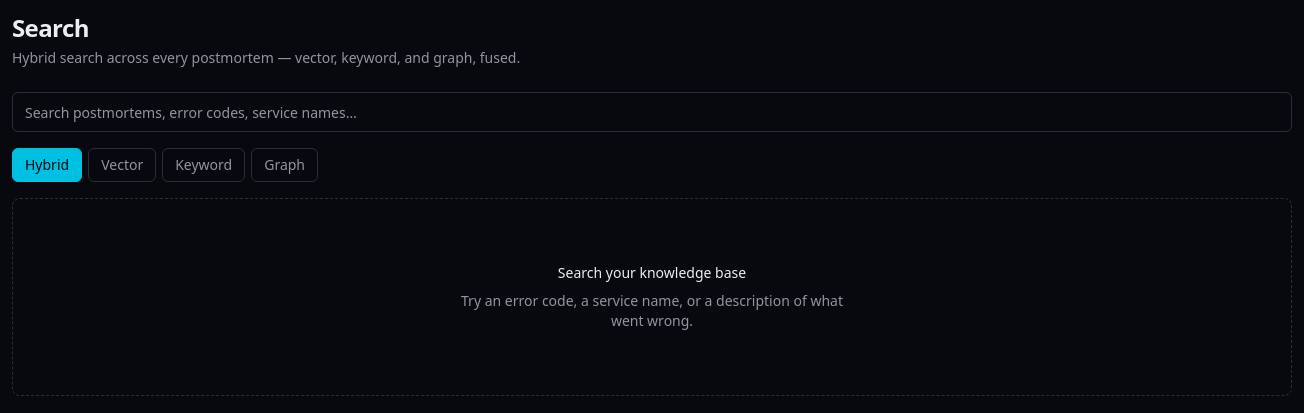
Search › renders results with a chip per contributing retriever after typing a query
Type "checkout outage" into the field named "Search query" at (652, 112), box [12,92,1292,132]
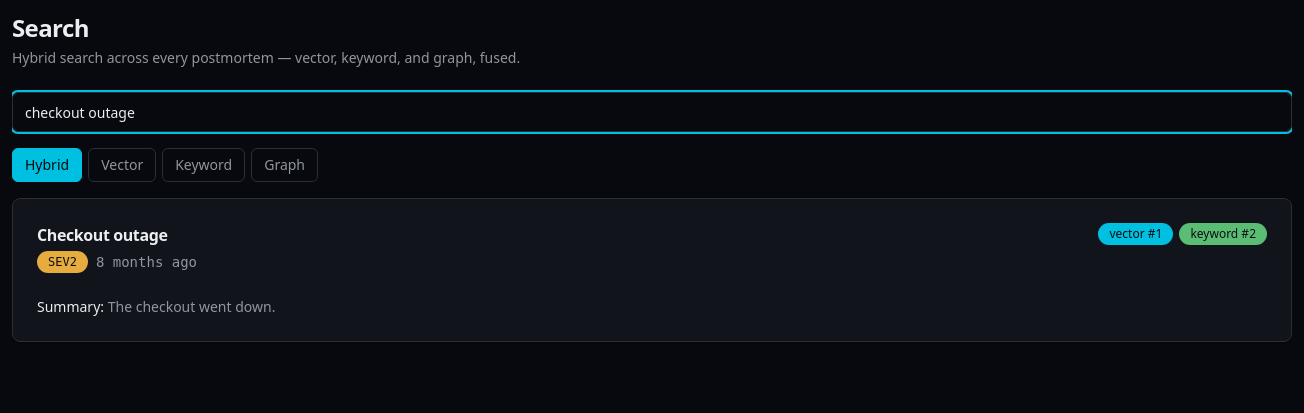
Now the heading "Checkout outage" is shown, box [37,224,167,246]
Now the text "vector #1" is shown, box [1098,223,1173,245]
Now the text "keyword #2" is shown, box [1179,223,1267,245]
